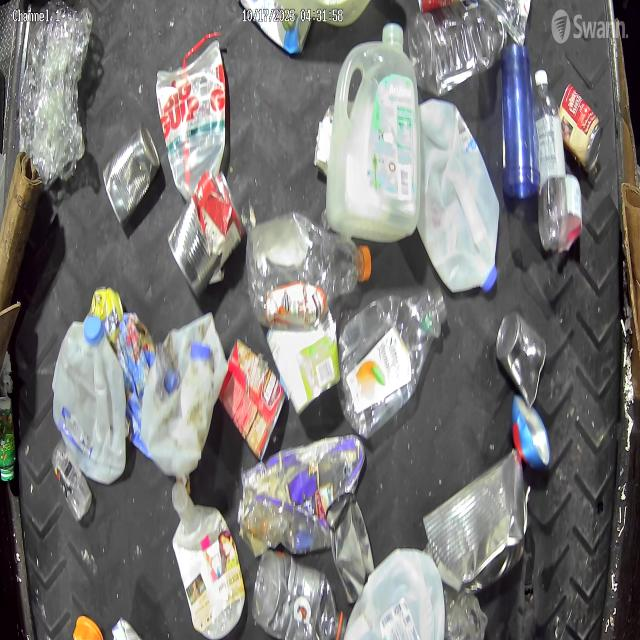can: (423, 448, 525, 594), (168, 168, 238, 298), (102, 121, 161, 226), (496, 311, 546, 408), (560, 84, 604, 184)
milk_jug: (327, 23, 418, 244), (418, 99, 499, 293), (140, 313, 228, 477), (53, 316, 129, 480), (172, 484, 244, 638), (340, 548, 445, 640)
non_white_jug: (237, 435, 366, 557)
plastic_bottle: (338, 290, 448, 434), (246, 212, 371, 328), (410, 0, 510, 96), (253, 552, 346, 640), (533, 70, 567, 252)
